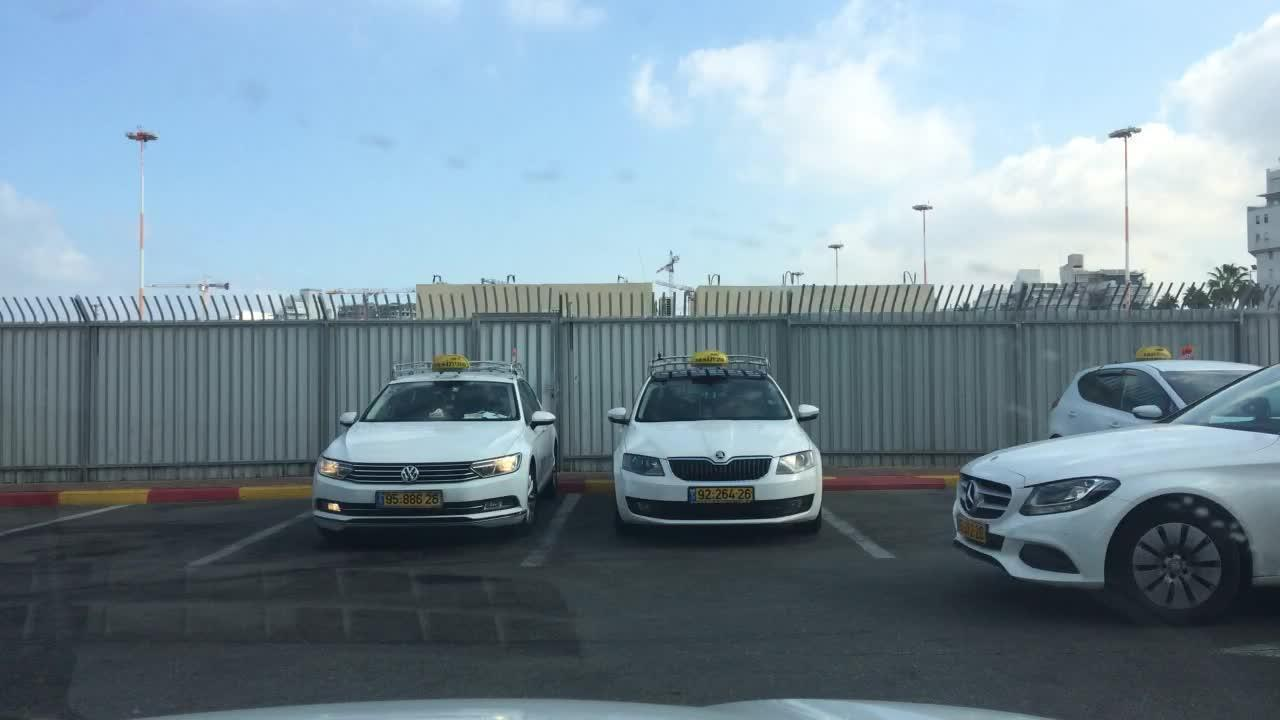Mercedes: (959, 477, 990, 518)
Volkswagen: (398, 462, 423, 483)
skoda: (708, 445, 733, 468)
